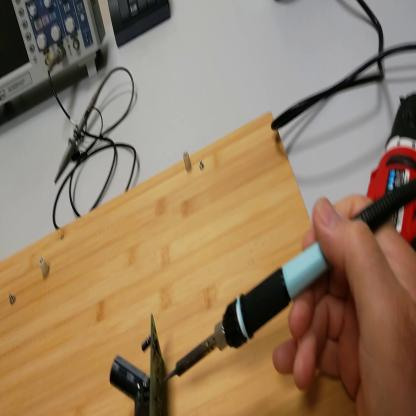electric screwdriver: (367, 93, 416, 248)
hand: (273, 193, 416, 414)
high voltage board: (111, 318, 171, 416)
oscilloscope: (2, 2, 106, 116)
oscilloscope probe tip: (55, 84, 104, 187)
welder probe tip: (163, 186, 416, 385)
working area: (2, 117, 356, 415)
